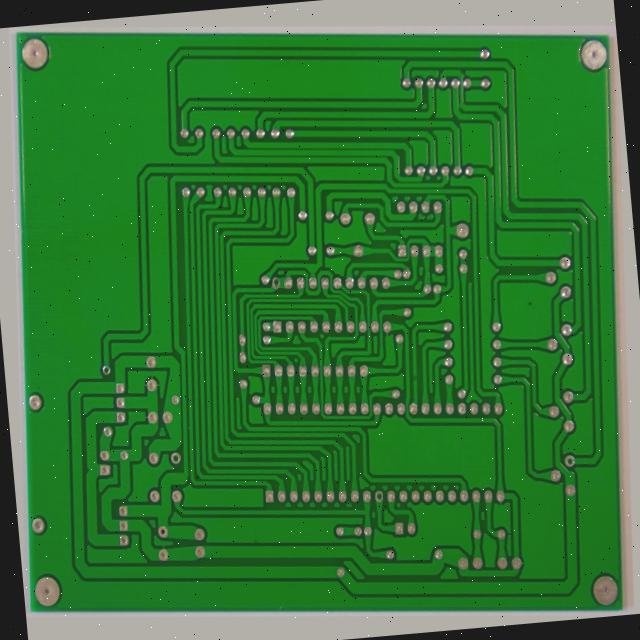missing_hole: (580, 438, 600, 459), (166, 470, 185, 492), (262, 273, 277, 291), (90, 383, 104, 401), (386, 495, 399, 512)
